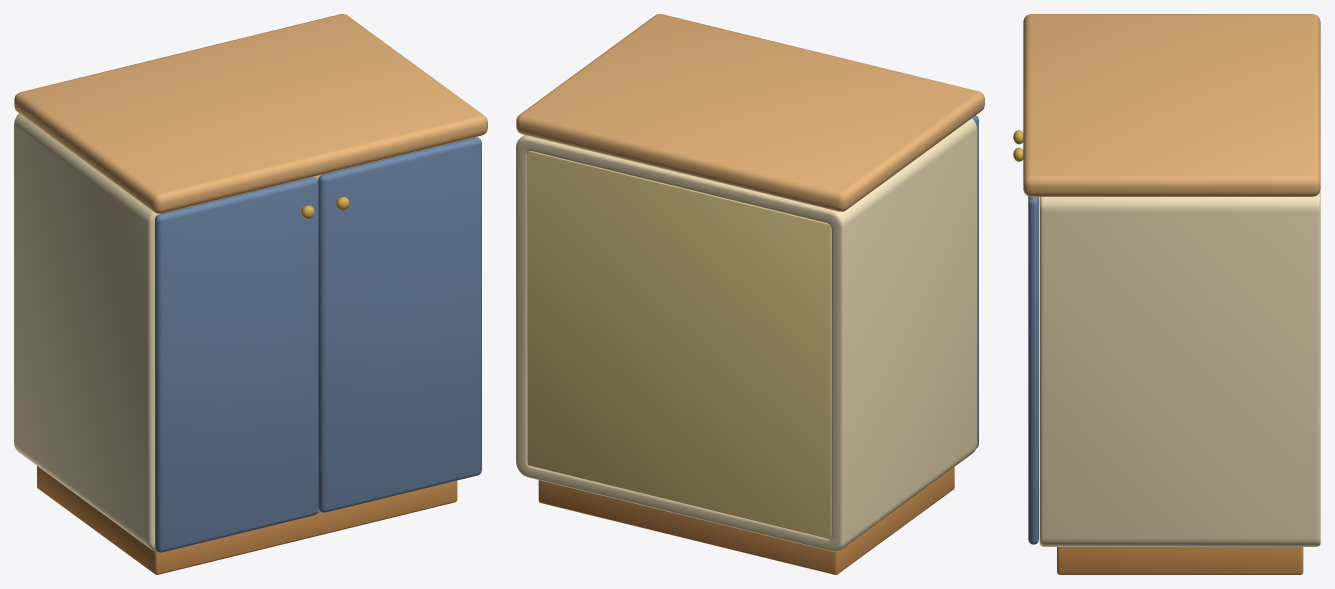
The model's file is armario_cozinha_base_2portas_creme_azul.glb.
3 renders of one model, left to right at view 1: azimuth 30°, elevation 25°; view 2: azimuth 150°, elevation 25°; view 3: azimuth 270°, elevation 25°, orthographic. The views are drawn at different scales.
Parts seen in each view (by area): view 1: armario_cozinha_base_2portas_creme_azul, porta_1, porta_2; view 2: armario_cozinha_base_2portas_creme_azul, porta_1; view 3: armario_cozinha_base_2portas_creme_azul, porta_2.
Part boxes in pixels (x1,y1,x2,y2): armario_cozinha_base_2portas_creme_azul: (14, 14, 487, 574); porta_1: (155, 177, 318, 552); porta_2: (318, 137, 481, 512); armario_cozinha_base_2portas_creme_azul: (516, 14, 984, 574); porta_1: (972, 115, 978, 448); armario_cozinha_base_2portas_creme_azul: (1023, 14, 1320, 574); porta_2: (1013, 147, 1038, 544).
Size of the model in its own units: 0.798 by 0.9 by 0.619.
Materials: 1 (1 with a texture image).
